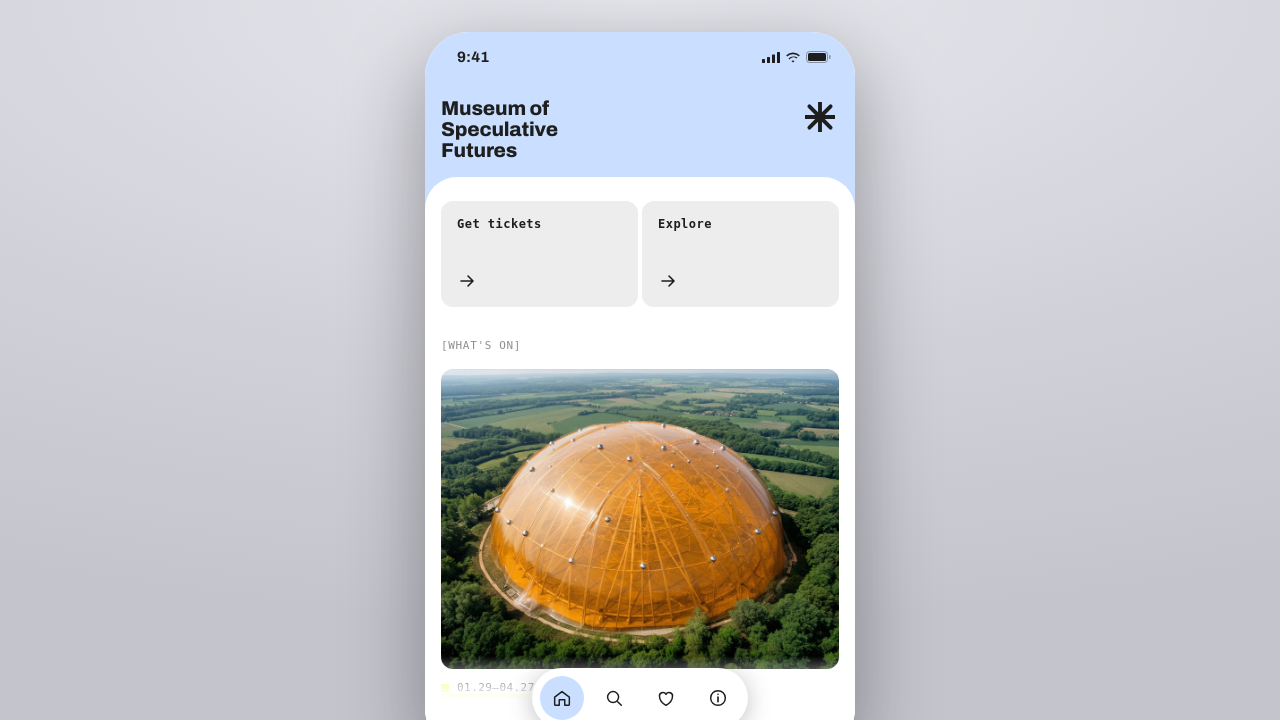
Test: MOSF booking flow › expands an FAQ accordion on the Info screen
Click the button "Get tickets" at (540, 254), box left=441, top=201, right=638, bottom=307
(page scrolled)
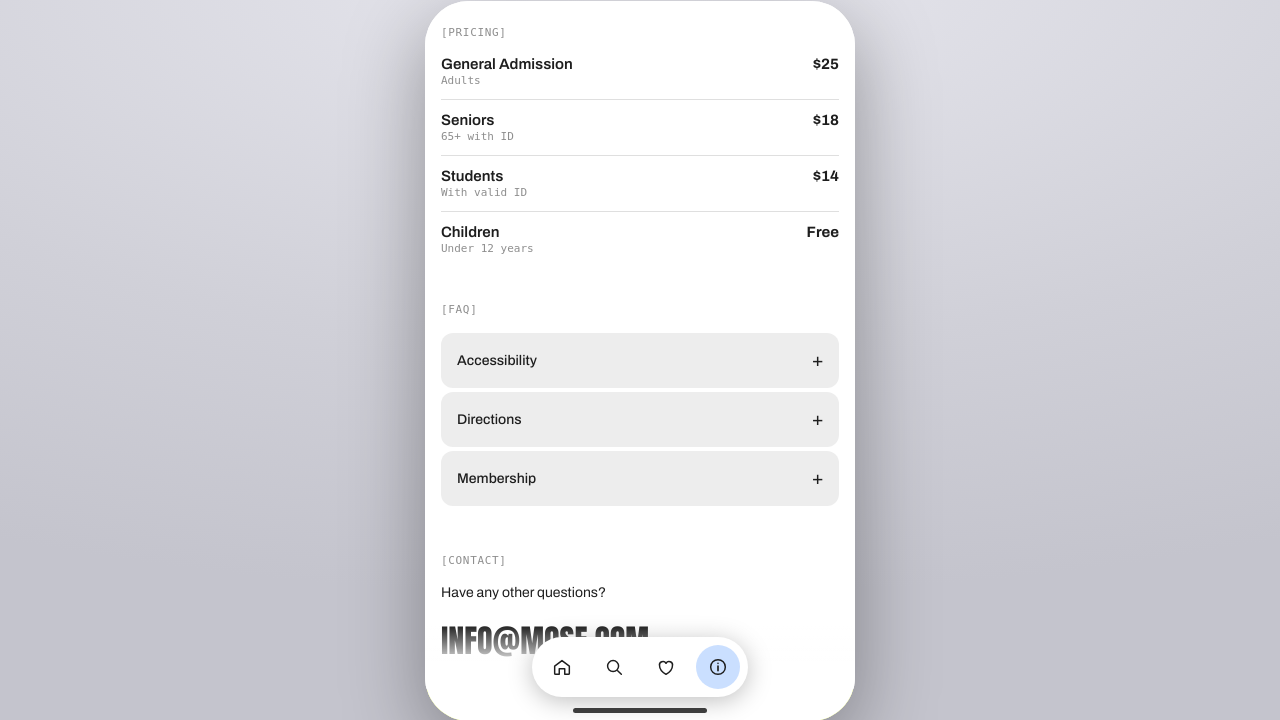
Click the button "Accessibility +" at (497, 361), box left=441, top=334, right=839, bottom=388
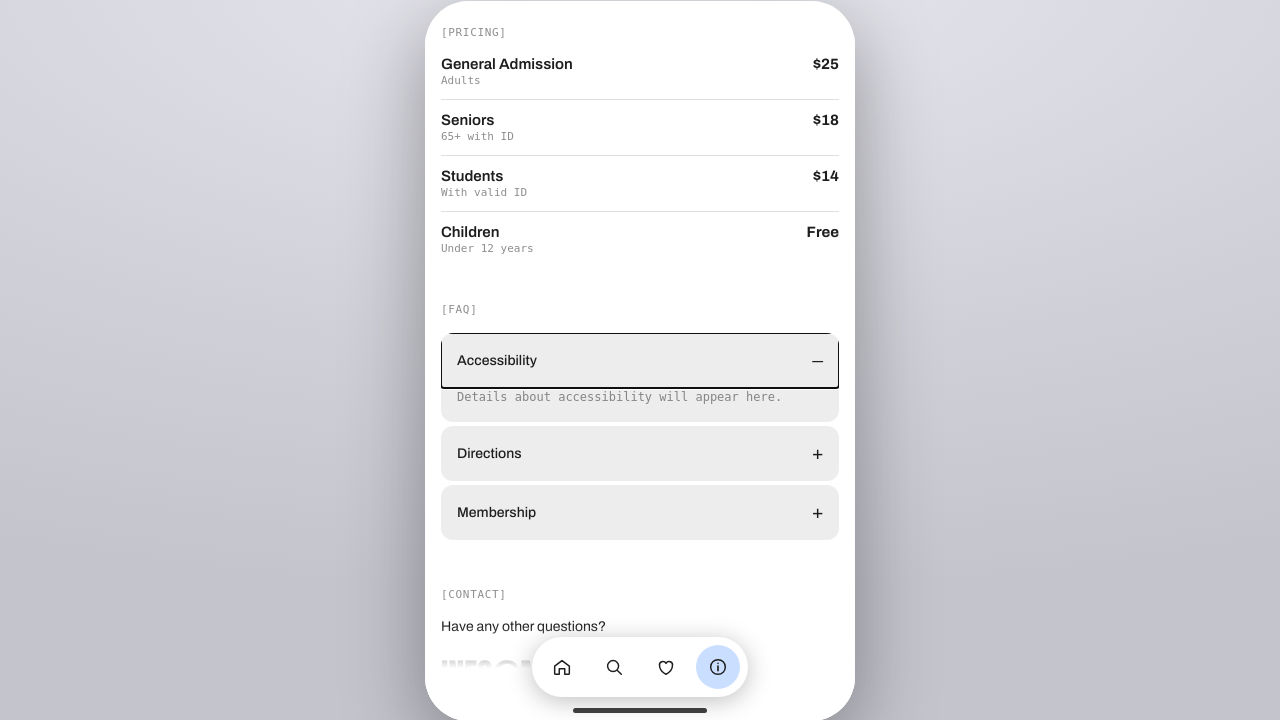
Check: the button "Accessibility –" is expanded, box left=441, top=334, right=839, bottom=388
